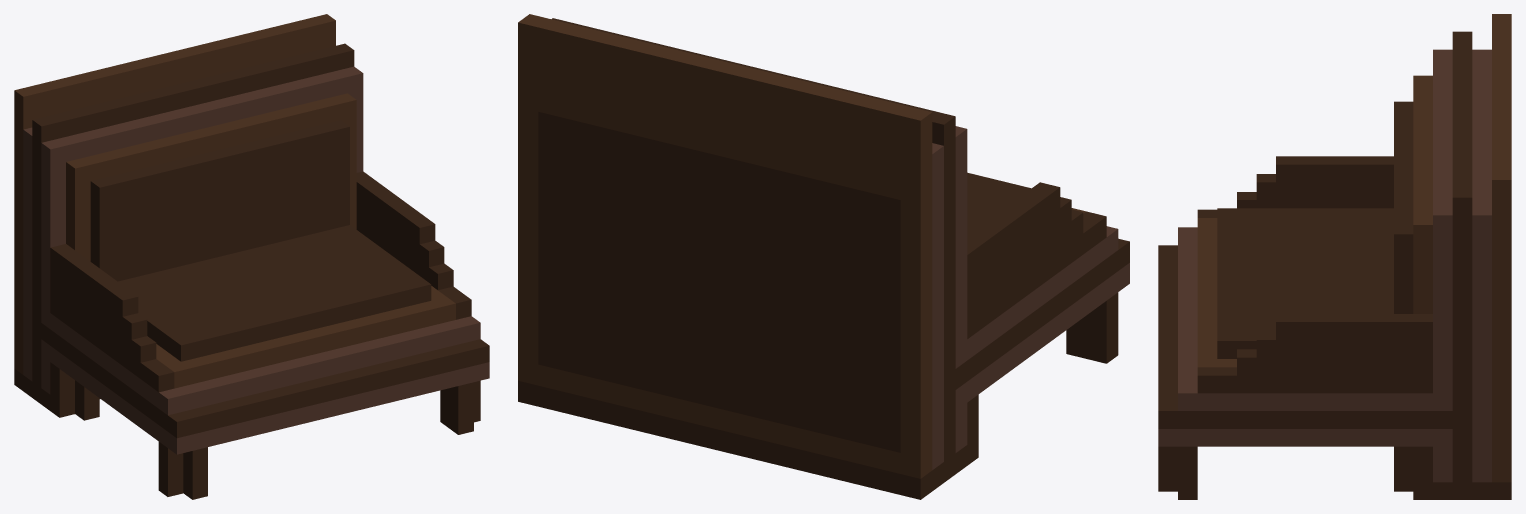
The model's file is Kreslo.obj.
3 renders of one model, left to right at view 1: azimuth 30°, elevation 25°; view 2: azimuth 150°, elevation 25°; view 3: azimuth 270°, elevation 25°, orthographic. The views are drawn at different scales.
Size of the model in its own units: 2 by 1.8 by 1.8.
1 material, 1 textured.
